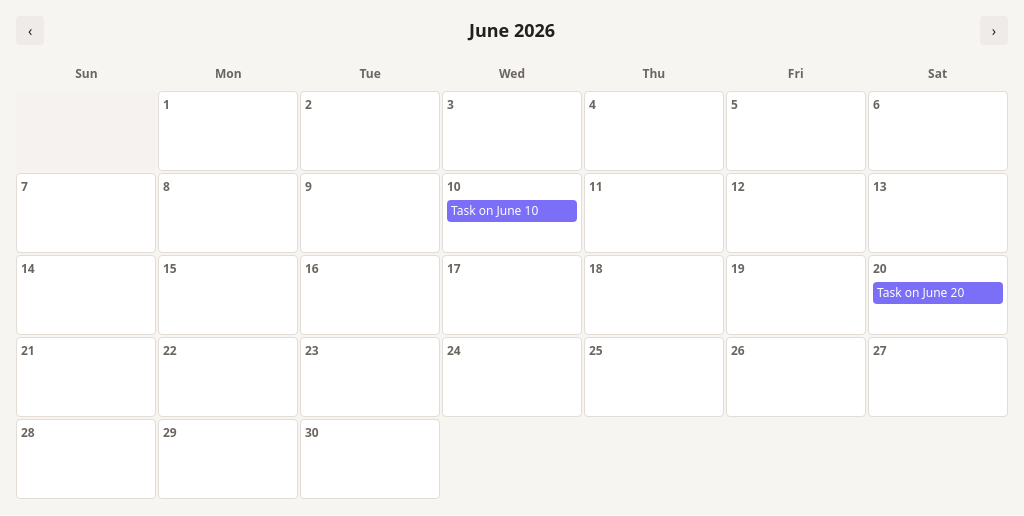
Test: CalendarView › after clicking Next, June items are no longer shown
Step 1. Click the button with test id "cal-next" → click(994, 30), box top-left (980, 16), bottom-right (1008, 45)
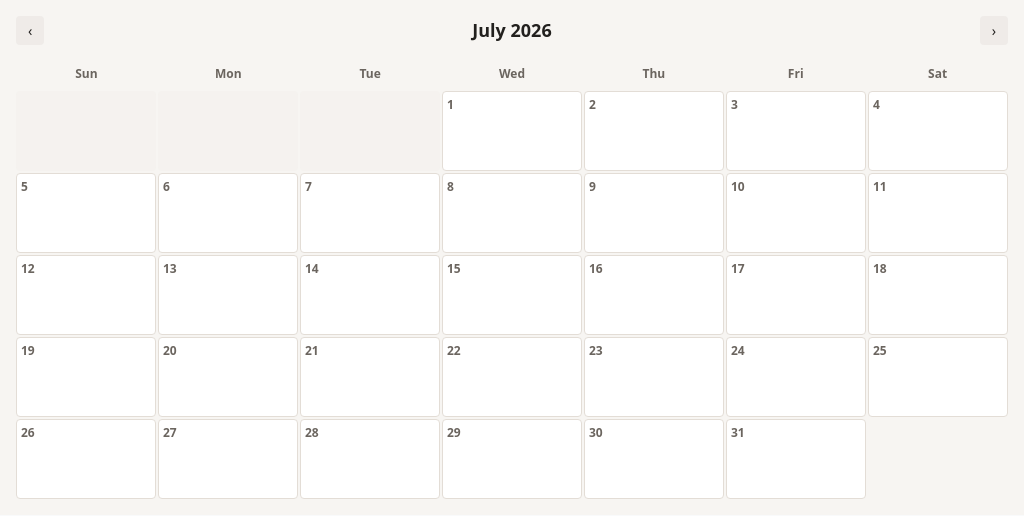
Check: the button with test id "cal-item-item-A" is gone
Check: the button with test id "cal-item-item-B" is gone
